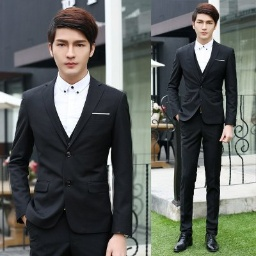face: (48, 8, 99, 79), (191, 3, 220, 38)
